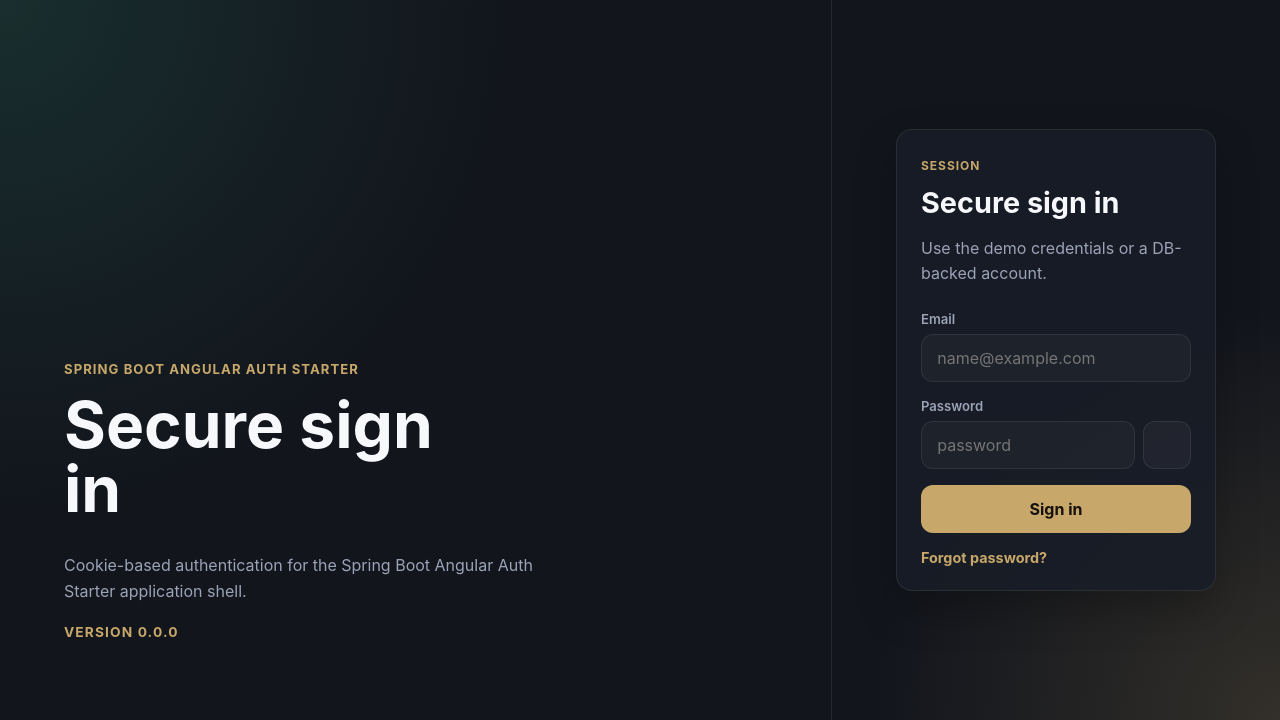
Test case: LoginShellPageComponent › shows the new password form instead of navigating when password change is required
Type "recovery@example.test" into the field named "email" at coordinates (1056, 358), box top-left (921, 334), bottom-right (1191, 382)
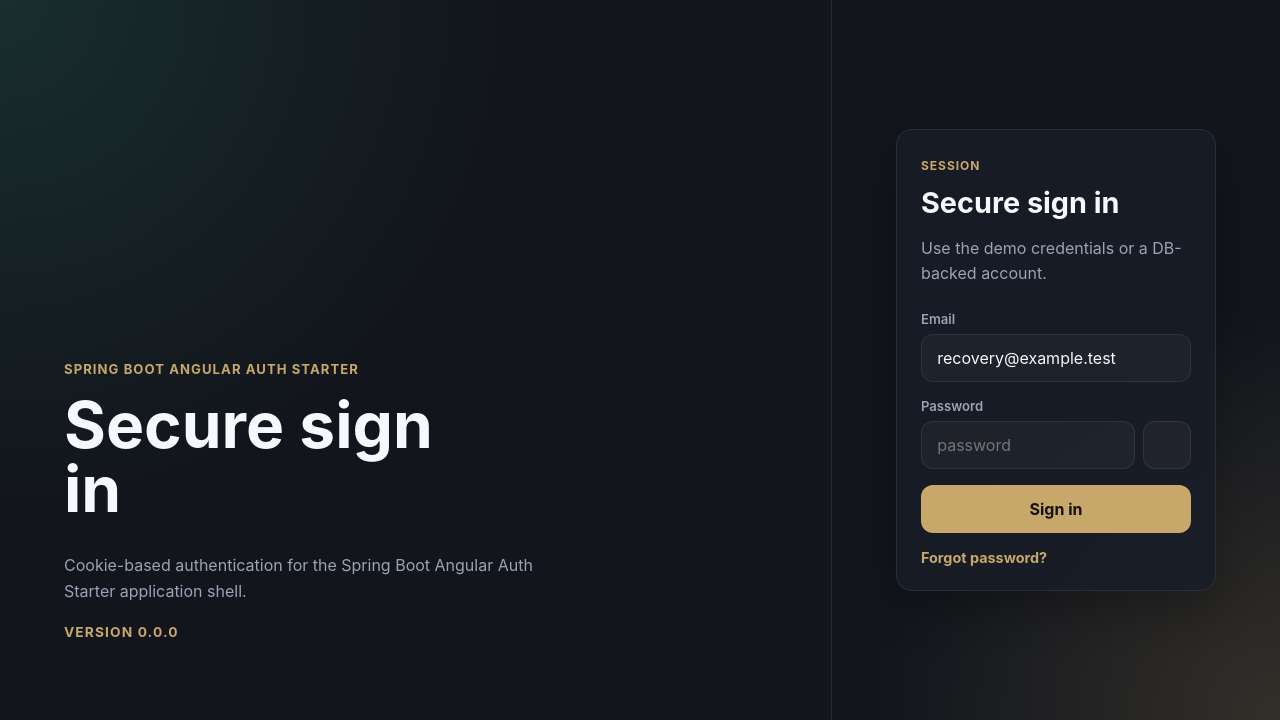
Type "break-glass-password" into the password field named "password" at coordinates (1028, 445), box top-left (921, 421), bottom-right (1135, 469)
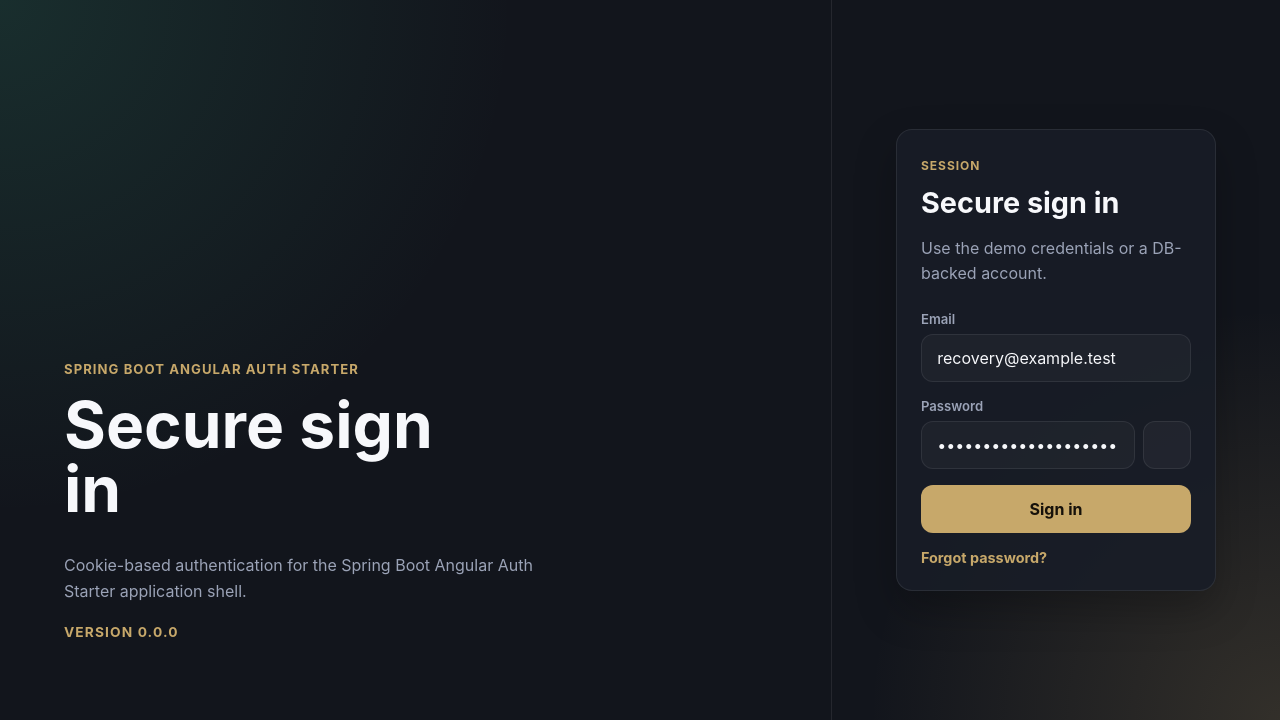
Submit the form, box top-left (921, 311), bottom-right (1191, 566)
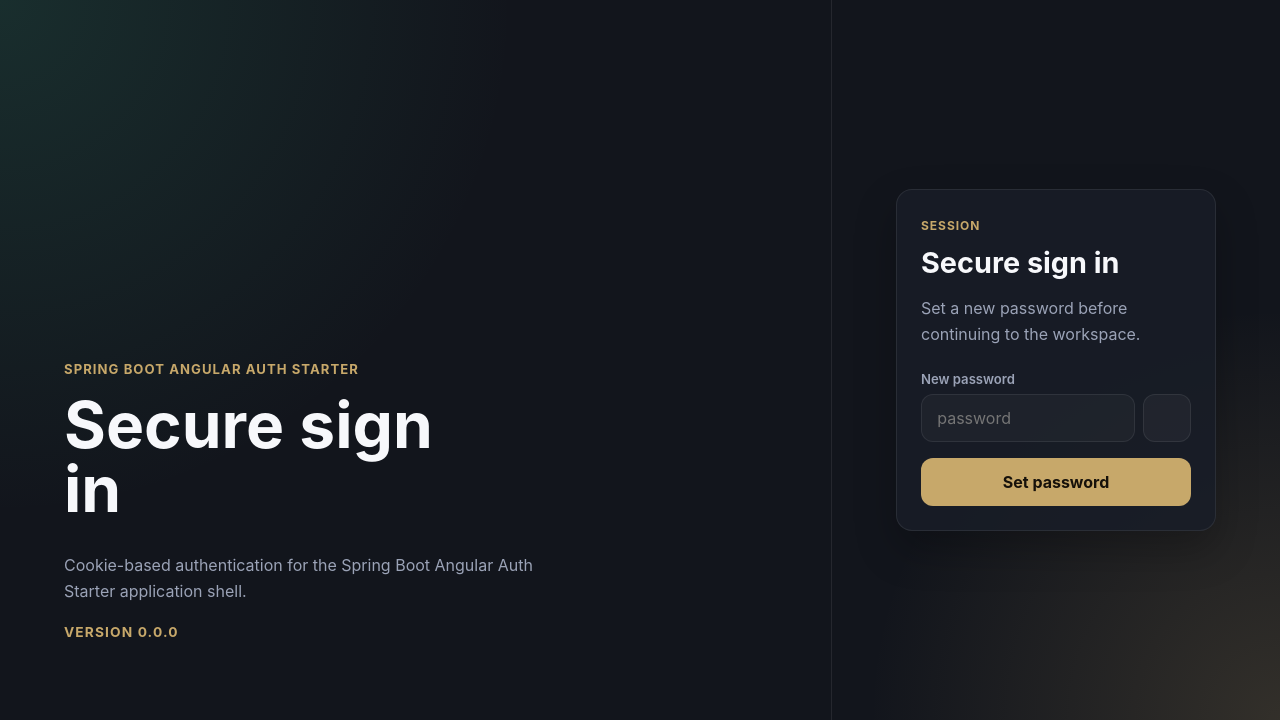
Expected: the password field named "newPassword" is shown, top-left (921, 394), bottom-right (1135, 442)
Now the text "Set password" is shown, box top-left (921, 458), bottom-right (1191, 506)
